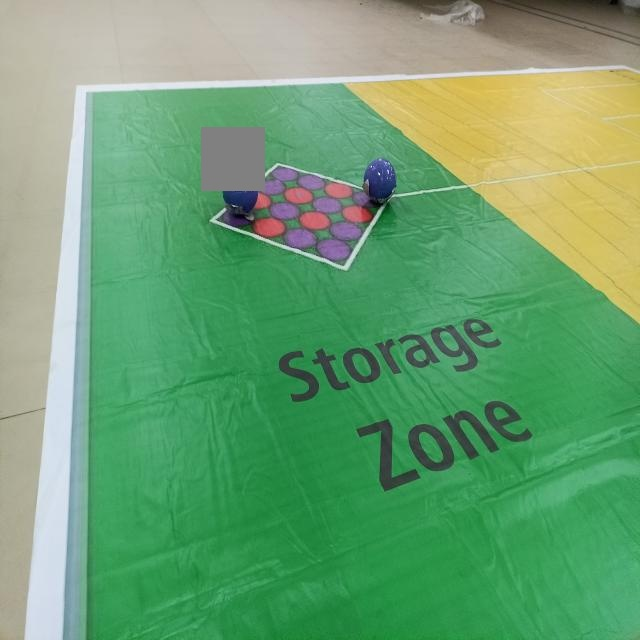purple_ball: (221, 167, 260, 218), (362, 157, 397, 208)
